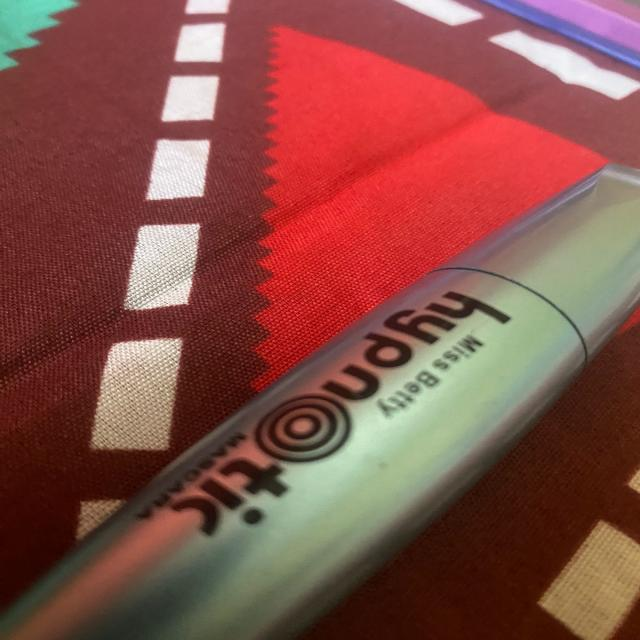mascara: (0, 124, 640, 640)
